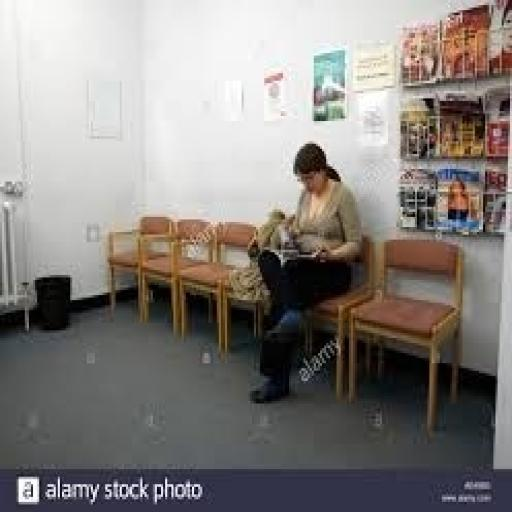sitting: (246, 138, 363, 404)
